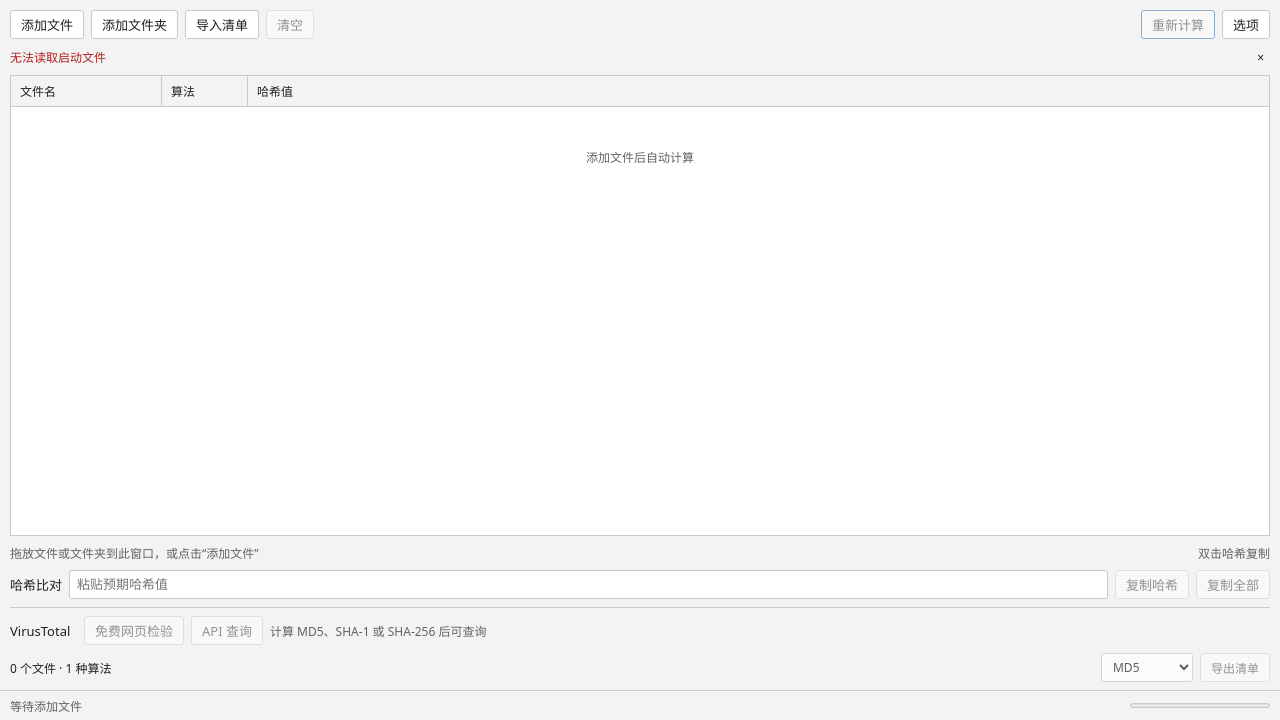
Scenario: shows startup path errors and still permits manual file selection
The image size is (1280, 720).
Expected: the message "无法读取启动文件 ×" is shown, [10,49,106,66]
Click the button "添加文件".
click(47, 24)  # box [10,10,84,39]
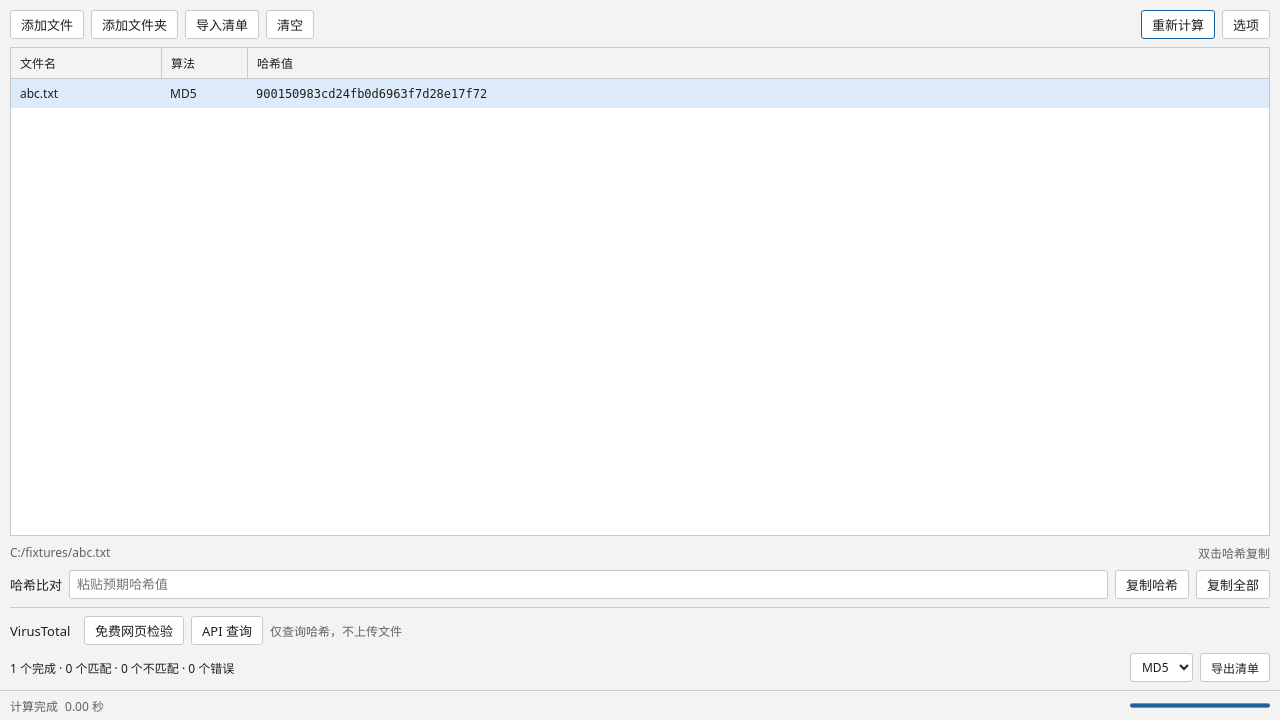
Now the text "900150983cd24fb0d6963f7d28e17f72" is shown, box [256,86,487,100]
